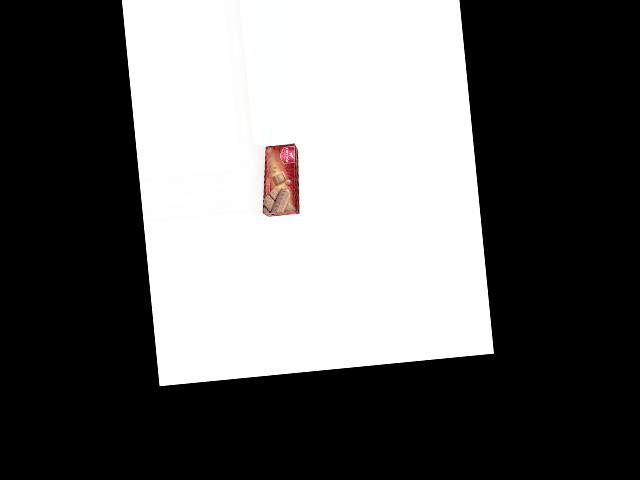chocolate: (255, 142, 304, 216)
